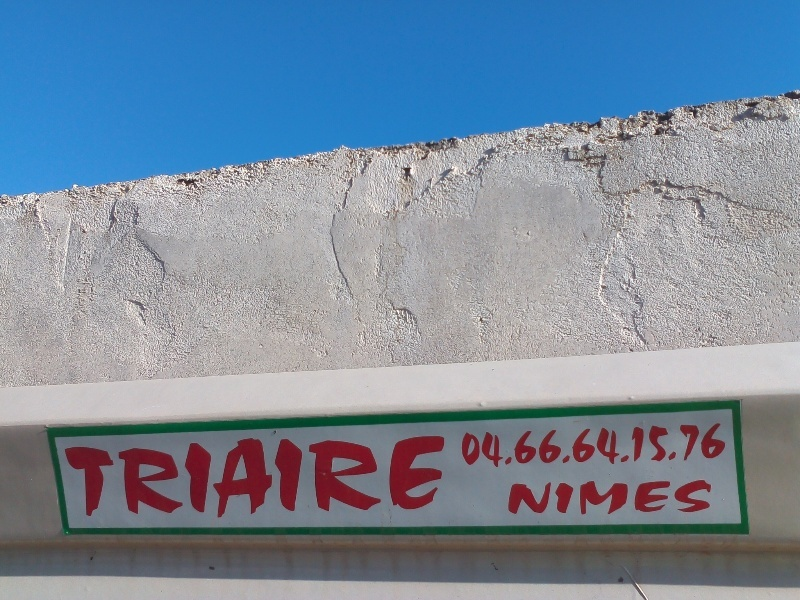text: (65, 429, 80, 520), (81, 429, 96, 520), (97, 429, 112, 520), (113, 429, 128, 520), (129, 429, 144, 520), (145, 429, 160, 520), (161, 429, 176, 520), (177, 429, 192, 520), (193, 429, 208, 520), (209, 429, 224, 520), (225, 429, 240, 520), (241, 429, 256, 520), (257, 429, 272, 520), (273, 429, 288, 520), (289, 429, 304, 520), (305, 429, 320, 520), (321, 429, 336, 520), (337, 429, 352, 520), (353, 429, 368, 520), (369, 429, 384, 520), (385, 429, 400, 520), (401, 429, 416, 520), (417, 429, 432, 520), (433, 429, 448, 520), (465, 420, 480, 470), (481, 420, 496, 470), (497, 420, 512, 470), (513, 420, 528, 470), (529, 420, 544, 470), (545, 420, 560, 470), (561, 420, 576, 470), (577, 420, 592, 470), (593, 420, 608, 470), (609, 420, 624, 470), (625, 420, 640, 470), (641, 420, 656, 470), (657, 420, 672, 470), (673, 420, 688, 470), (689, 420, 704, 470), (705, 420, 720, 470), (513, 478, 528, 516), (529, 478, 544, 516), (545, 478, 560, 516), (561, 478, 576, 516), (577, 478, 592, 516), (593, 478, 608, 516), (609, 478, 624, 516), (625, 478, 640, 516), (641, 478, 656, 516), (657, 478, 672, 516), (673, 478, 688, 516), (689, 478, 704, 516), (721, 420, 732, 470), (705, 478, 714, 516), (449, 429, 452, 520), (461, 420, 464, 470), (509, 478, 512, 516), (63, 429, 64, 520)
